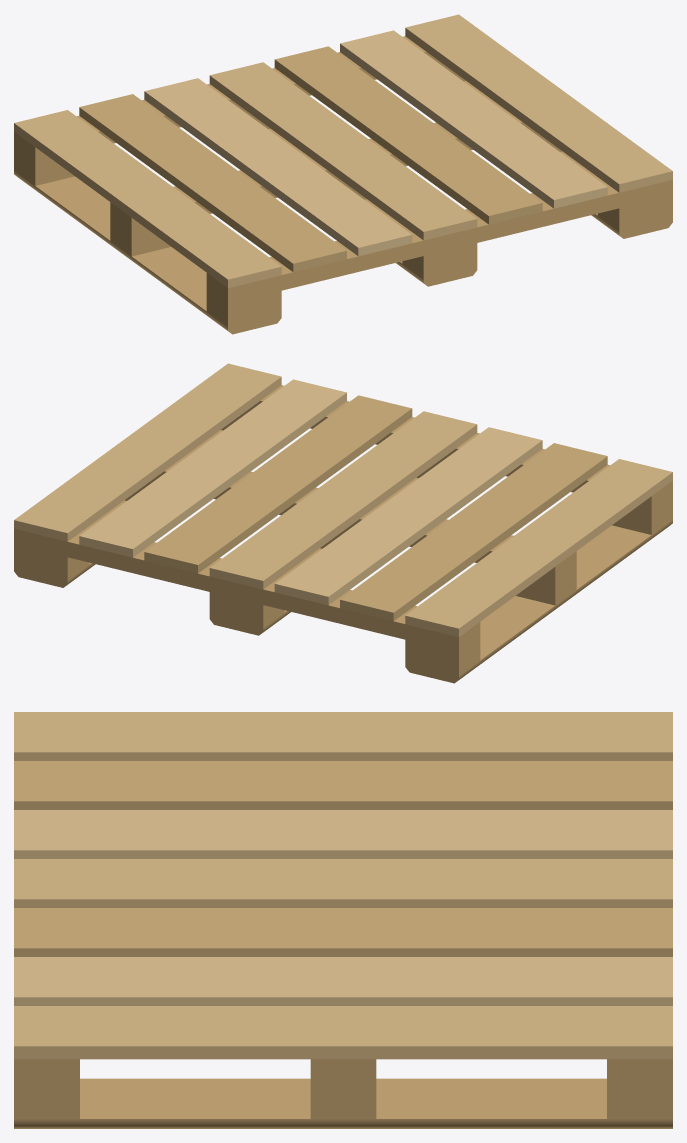
Rendered from pallet.glb.
The picture shows the model from 3 angles, top to bottom: view 1: azimuth 30°, elevation 25°; view 2: azimuth 150°, elevation 25°; view 3: azimuth 270°, elevation 25°; orthographic projection. The views are drawn at different scales.
Parts seen in each view (by area): view 1: Geom.002, Geom.004, Geom.003, Geom.006, Geom, Geom.005, Geom.001, stringer_left, bottom_board_left, stringer_middle, stringer_right, bottom_board_middle (+1 smaller); view 2: Geom.002, Geom.004, Geom.003, Geom.006, Geom, Geom.005, Geom.001, stringer_right, bottom_board_left, stringer_middle, stringer_left, bottom_board_middle (+1 smaller); view 3: Geom.006, Geom, Geom.001, Geom.002, Geom.003, Geom.004, Geom.005, bottom_board_right, stringer_middle, stringer_left, stringer_right.
Boxes of the visible parts, x1=… form: Geom.002: x1=144, y1=78, x2=412, y2=256; Geom.004: x1=274, y1=46, x2=542, y2=224; Geom.003: x1=209, y1=62, x2=477, y2=240; Geom.006: x1=405, y1=14, x2=672, y2=192; Geom: x1=14, y1=110, x2=281, y2=287; Geom.005: x1=340, y1=30, x2=607, y2=208; Geom.001: x1=79, y1=94, x2=346, y2=272; stringer_left: x1=206, y1=177, x2=672, y2=326; bottom_board_left: x1=14, y1=170, x2=281, y2=334; stringer_middle: x1=110, y1=106, x2=562, y2=256; stringer_right: x1=14, y1=36, x2=465, y2=185; bottom_board_middle: x1=268, y1=128, x2=477, y2=286; Geom.002: x1=274, y1=427, x2=542, y2=605; Geom.004: x1=144, y1=395, x2=412, y2=573; Geom.003: x1=209, y1=411, x2=477, y2=589; Geom.006: x1=14, y1=363, x2=281, y2=541; Geom: x1=405, y1=459, x2=672, y2=636; Geom.005: x1=79, y1=379, x2=346, y2=557; Geom.001: x1=340, y1=443, x2=607, y2=621; stringer_right: x1=14, y1=526, x2=480, y2=675; bottom_board_left: x1=405, y1=519, x2=672, y2=683; stringer_middle: x1=124, y1=455, x2=576, y2=605; stringer_left: x1=221, y1=385, x2=672, y2=534; bottom_board_middle: x1=209, y1=477, x2=418, y2=635; Geom.006: x1=14, y1=1006, x2=672, y2=1059; Geom: x1=14, y1=712, x2=672, y2=760; Geom.001: x1=14, y1=761, x2=672, y2=809; Geom.002: x1=14, y1=810, x2=672, y2=858; Geom.003: x1=14, y1=859, x2=672, y2=907; Geom.004: x1=14, y1=908, x2=672, y2=956; Geom.005: x1=14, y1=957, x2=672, y2=1005; bottom_board_right: x1=14, y1=1078, x2=672, y2=1128; stringer_middle: x1=310, y1=1059, x2=376, y2=1118; stringer_left: x1=14, y1=1059, x2=79, y2=1118; stringer_right: x1=607, y1=1059, x2=672, y2=1118.
Bounding box in the file's own units: 1.2 × 0.144 × 1.
